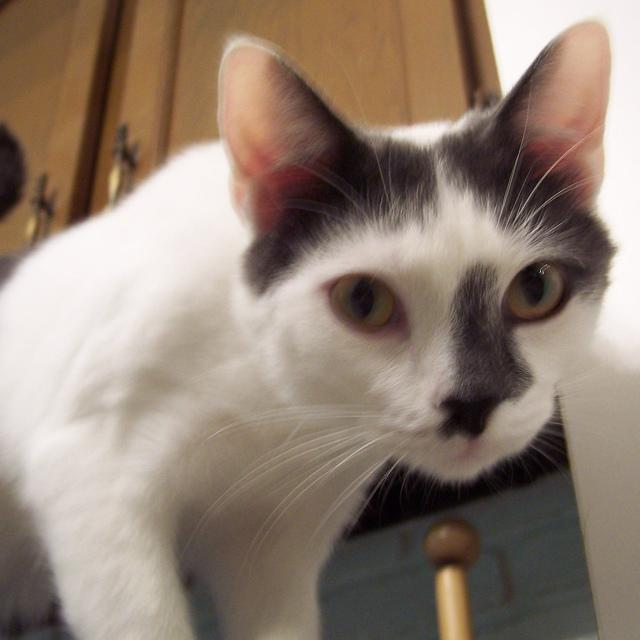animals: (240, 22, 594, 432)
